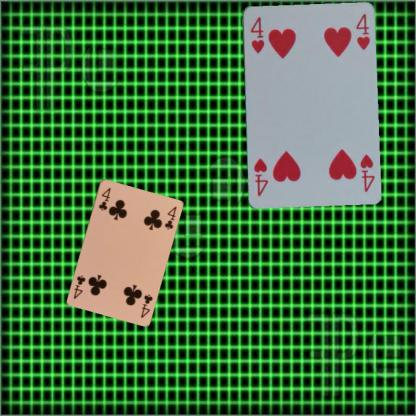4c: (138, 291, 154, 319), (96, 185, 112, 212)
4h: (357, 151, 376, 193), (247, 14, 265, 54)
